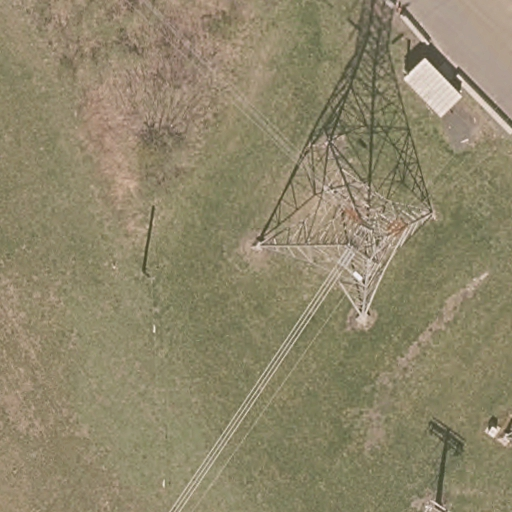TT: (255, 131, 437, 323)
